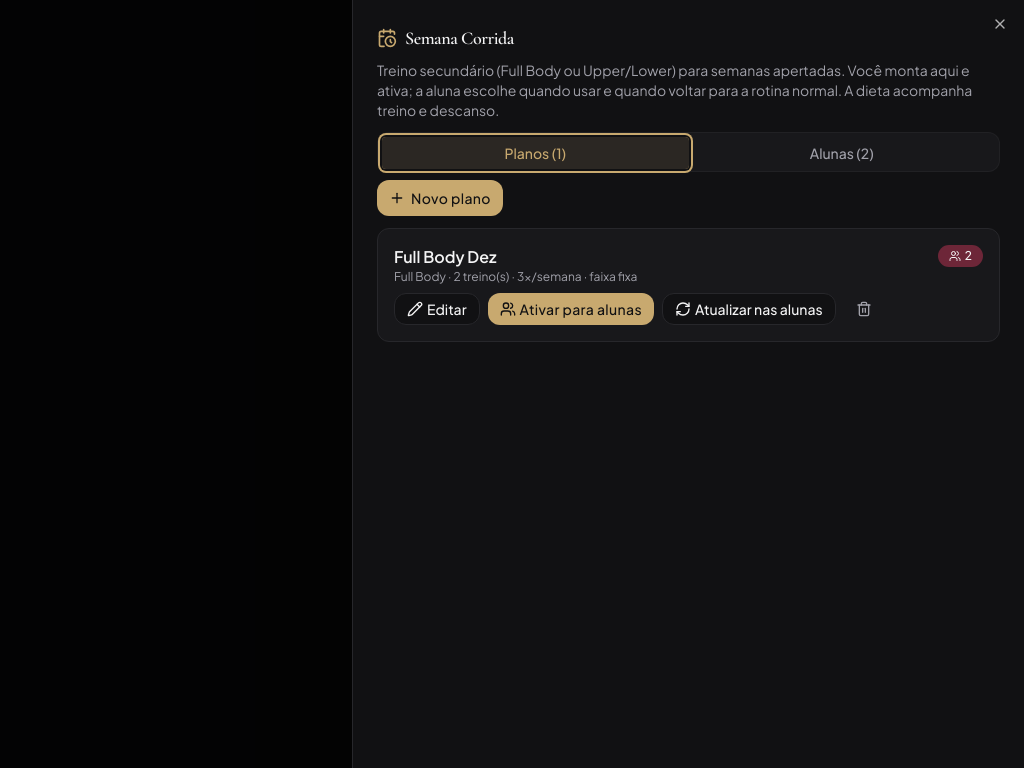
Test case: Semana Corrida — biblioteca do coach › atualizar nas alunas: quem tem ajuste individual vem desmarcada
The width and height of the screenshot is (1024, 768).
Later steps or results of the test are not shown.
Click the button with test id "busy-sync-p1": (749,309) left=662, top=293, right=836, bottom=325
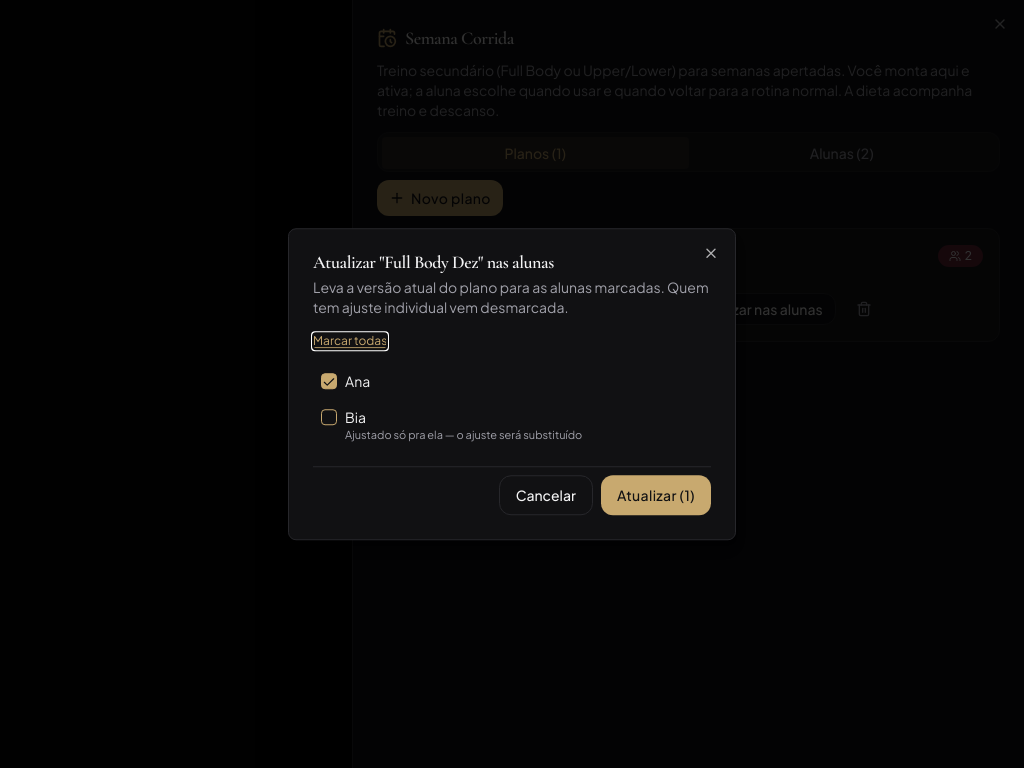
Now the text "Ajustado só pra ela — o ajuste será substituído" is shown, box left=345, top=427, right=582, bottom=444
